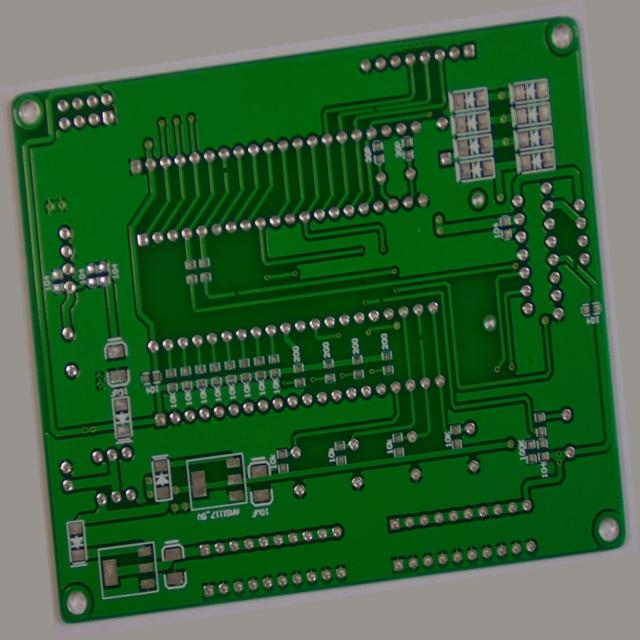open_circuit: (596, 289, 607, 313), (226, 268, 239, 282), (229, 126, 240, 139), (422, 350, 431, 363), (383, 301, 392, 313), (398, 84, 406, 94)
